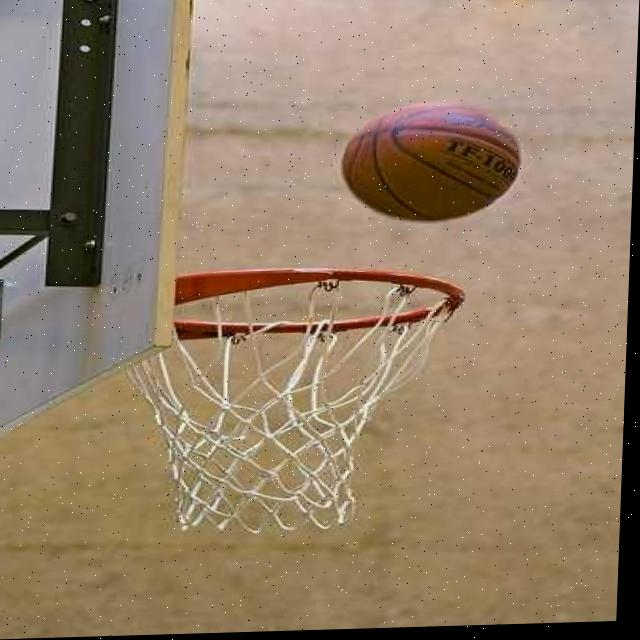basketball: (339, 101, 524, 225)
hoop: (115, 260, 469, 539)
